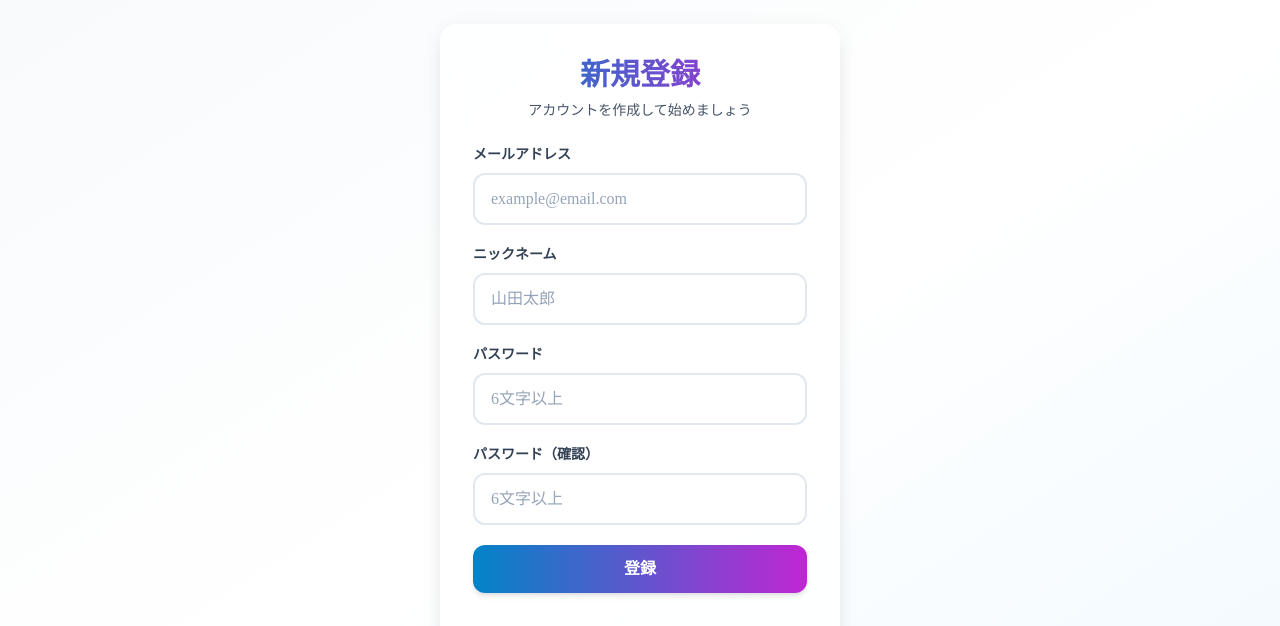
Test: SignupForm › パスワードが一致しない場合はエラーを表示する
This screenshot has width=1280, height=626.
Type "test@example.com" into the field labelled "メールアドレス" at (640, 199), box [473, 173, 807, 225]
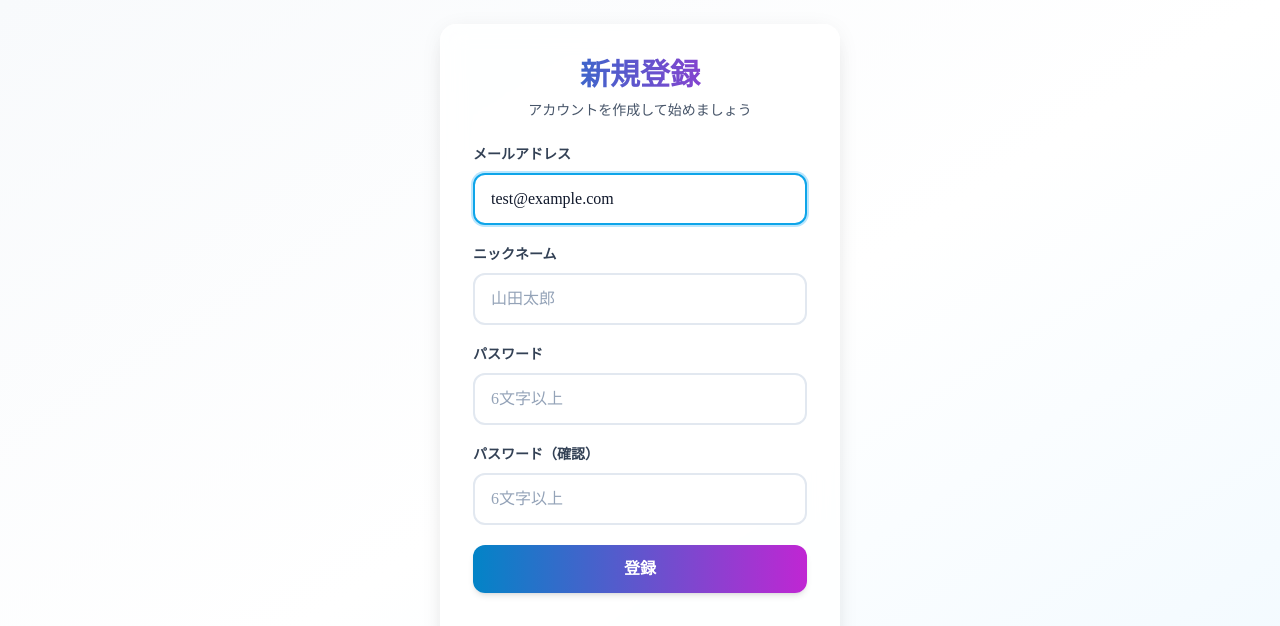
Type "テストユーザー" into the field labelled "ニックネーム" at (640, 299), box [473, 273, 807, 325]
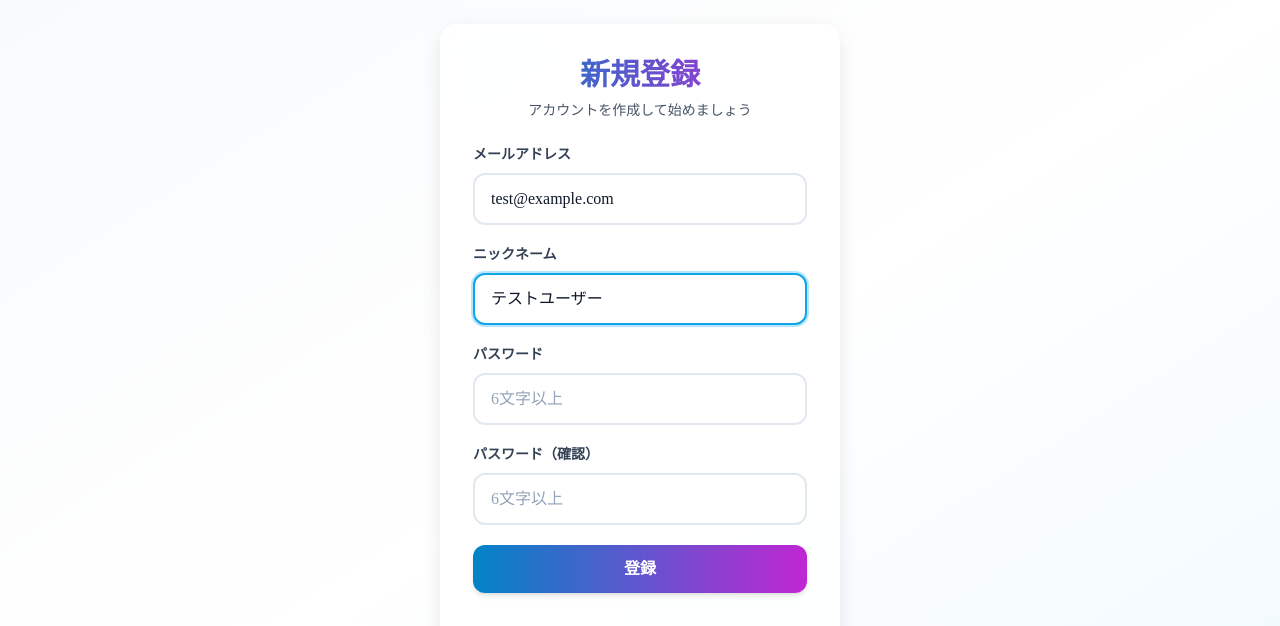
Type "password123" into the password field labelled "パスワード" at (640, 399), box [473, 373, 807, 425]
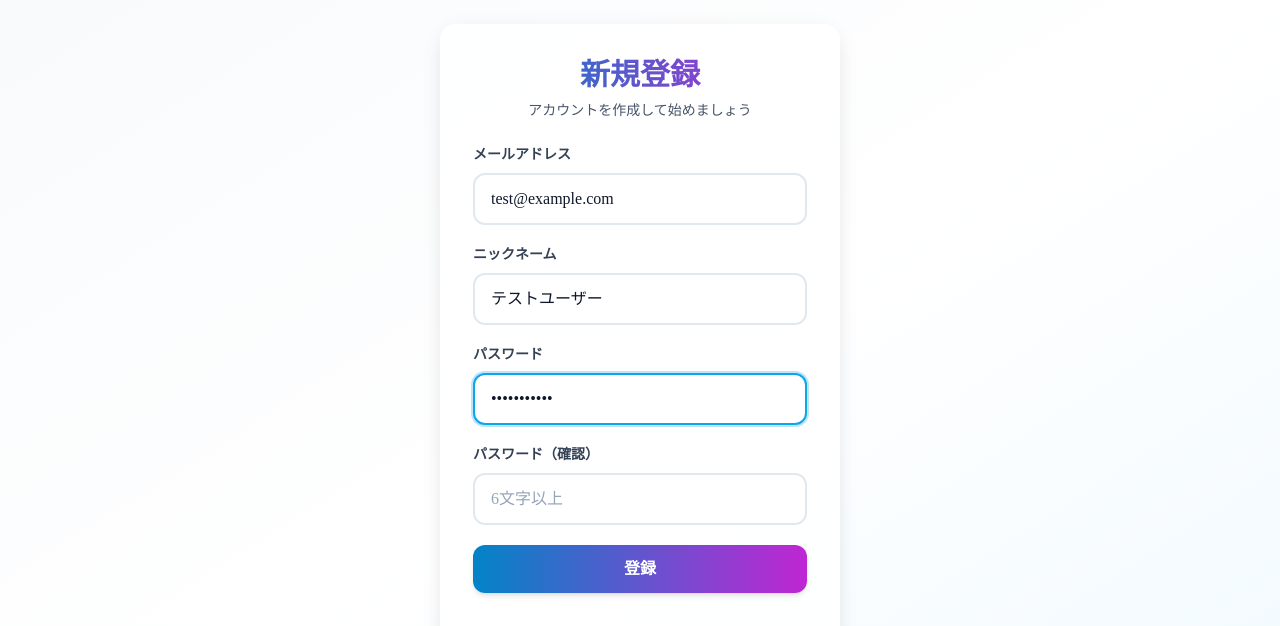
Type "different" into the password field labelled "パスワード（確認）" at (640, 499), box [473, 473, 807, 525]
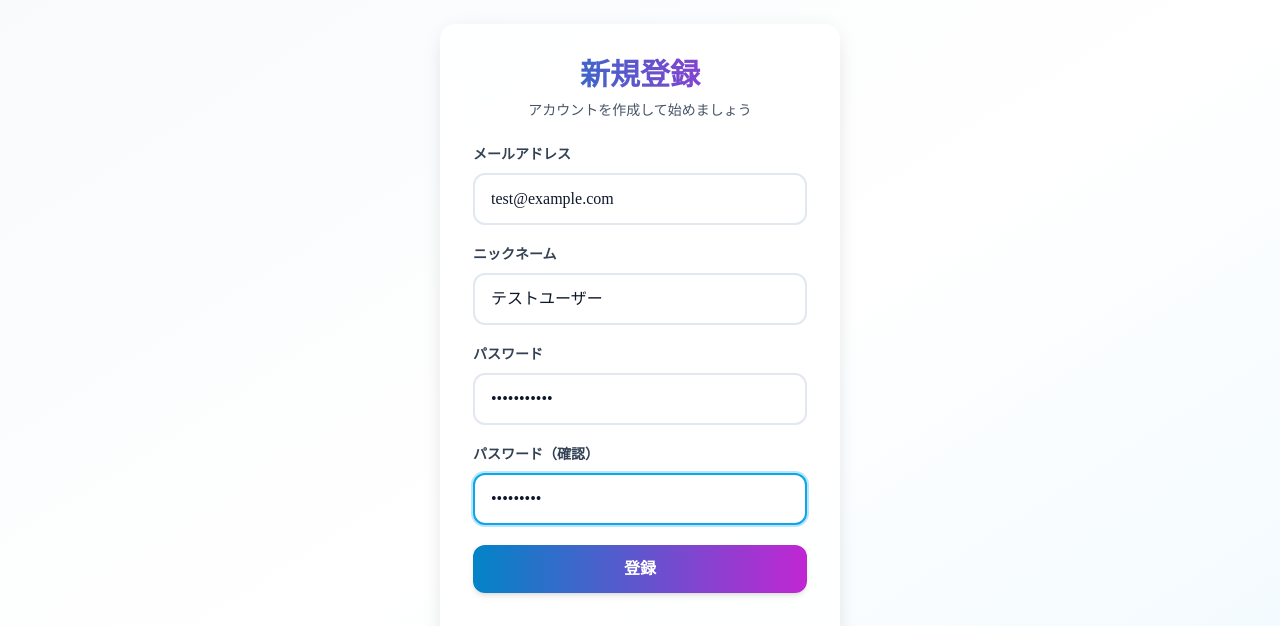
Click the button "登録" at (640, 569), box [473, 545, 807, 593]
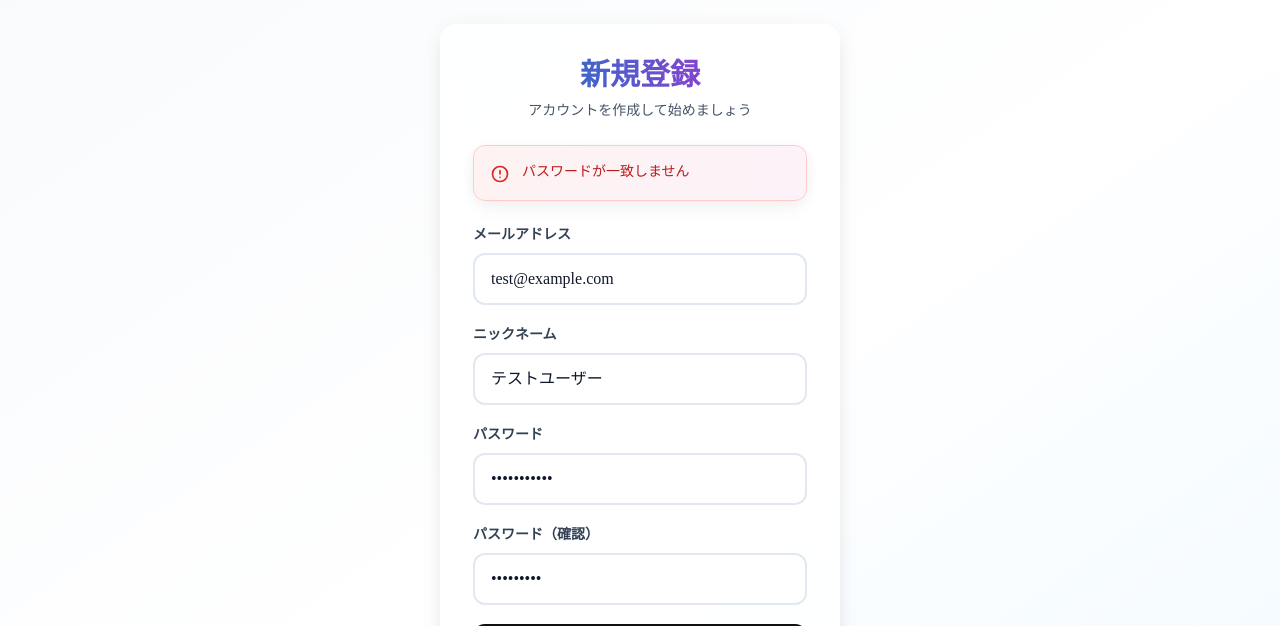
Now the text "パスワードが一致しません" is shown, box [522, 162, 690, 182]
